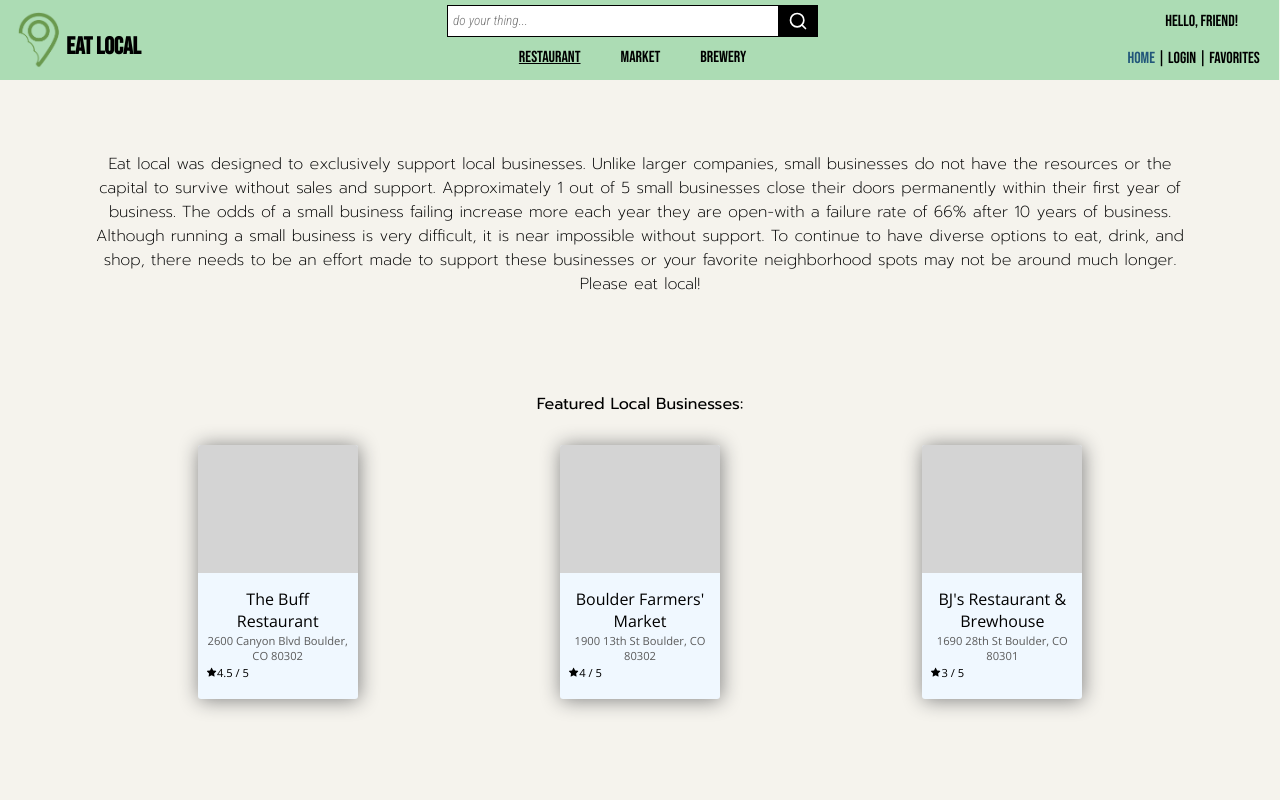
Test: Landing Page › login handles server errors
The width and height of the screenshot is (1280, 800).
Click the text with class "login": (1182, 59) left=1168, top=49, right=1196, bottom=68
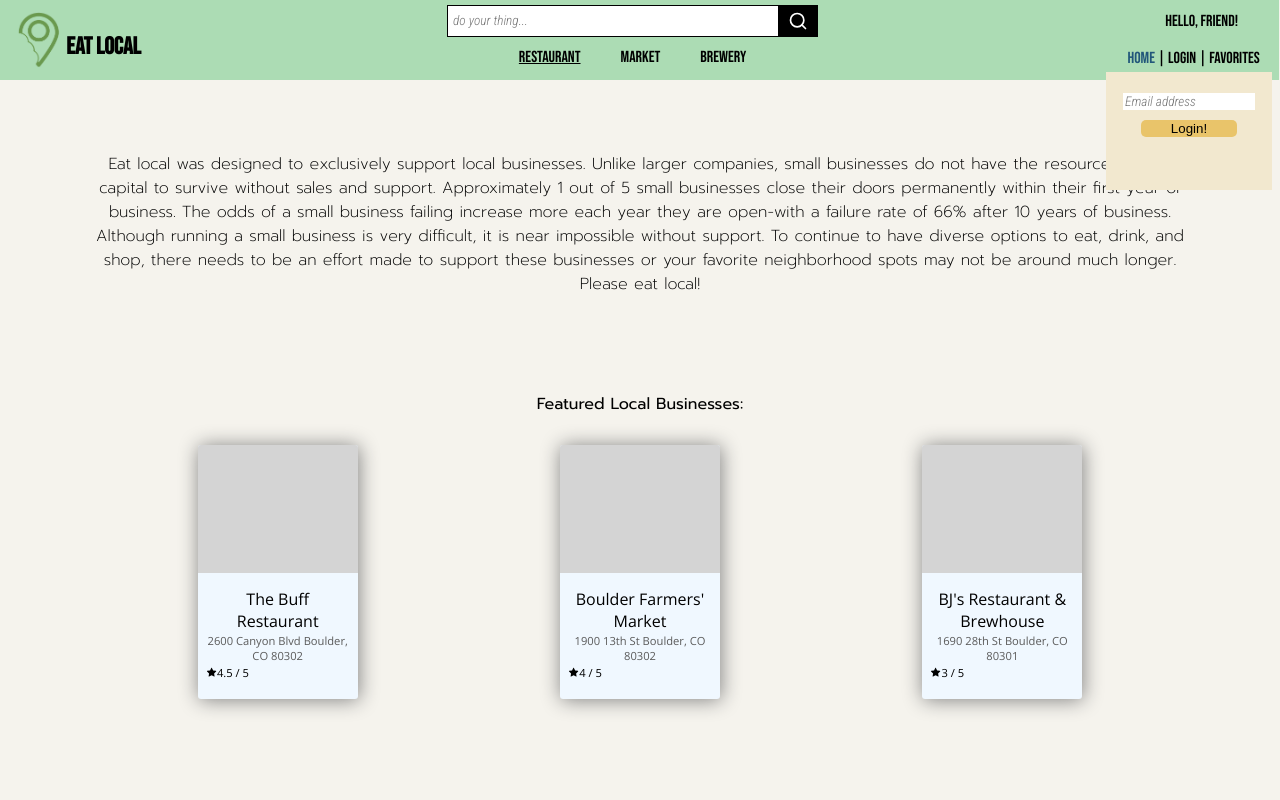
In the field with class "input-email": (1189, 102) left=1123, top=93, right=1255, bottom=110, type "notauser@email.com"
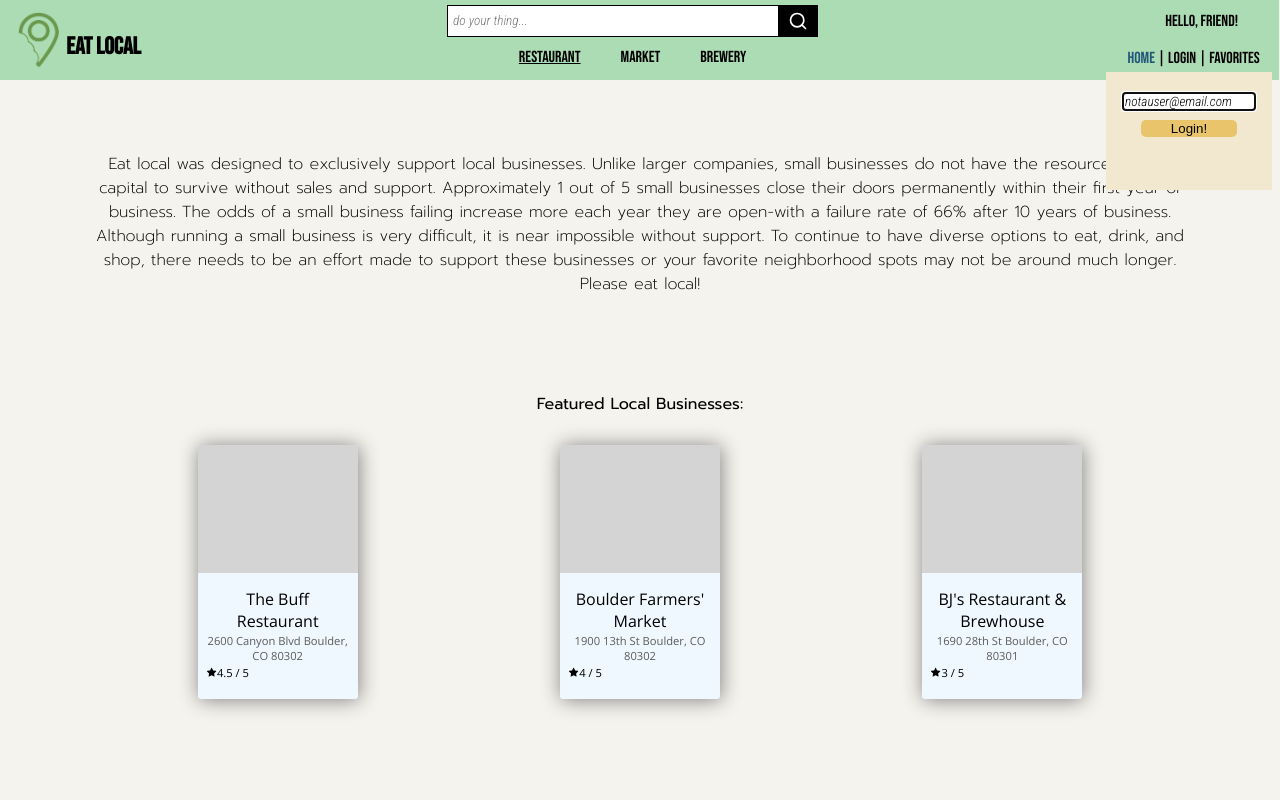
Click the button with class "login-btn": (1189, 129) left=1141, top=120, right=1237, bottom=137
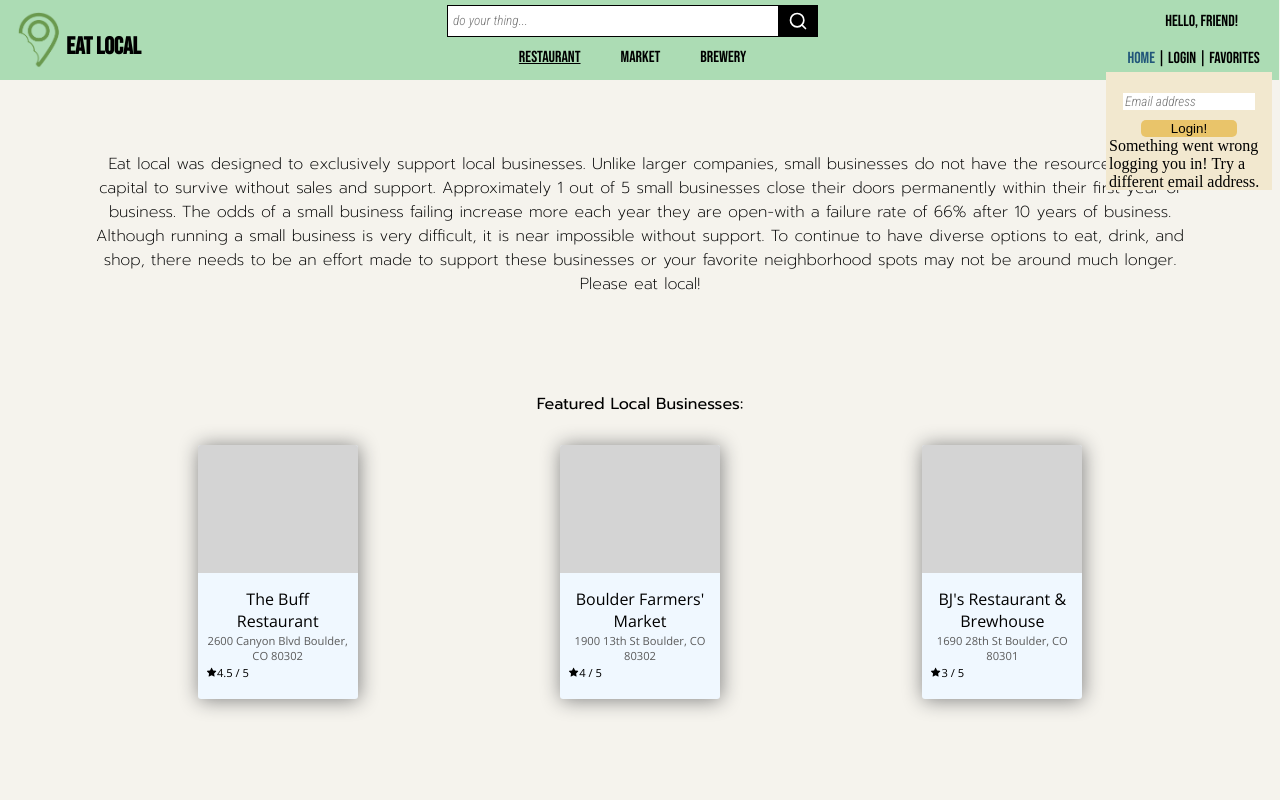
Now the text with test id "login-error" reads "Something went wrong logging you in! Try a different email address.", box left=1109, top=137, right=1259, bottom=190
